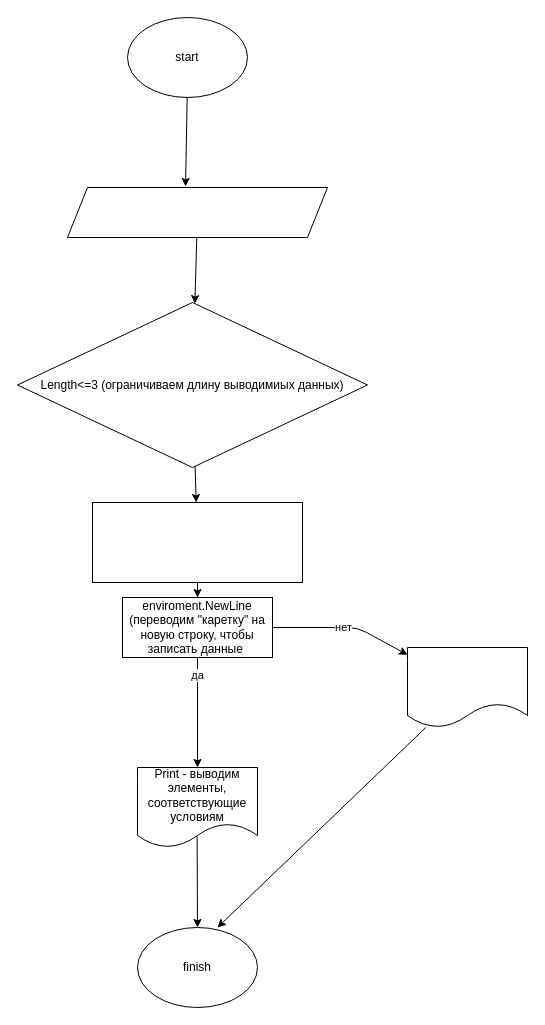
Image size: 545x1025. Some labels were removed from this diagram. The shapes that lost their labels are listed below. From the top down, each one's centre as x and y in pixels, then its label:
the point at 197,212: input array (ввод данных из программы)
the point at 197,542: var value ++ (перебираем элементы, проверяя их на условие ограчения данных
the point at 467,687: не выводим элементы, не соответствующие
